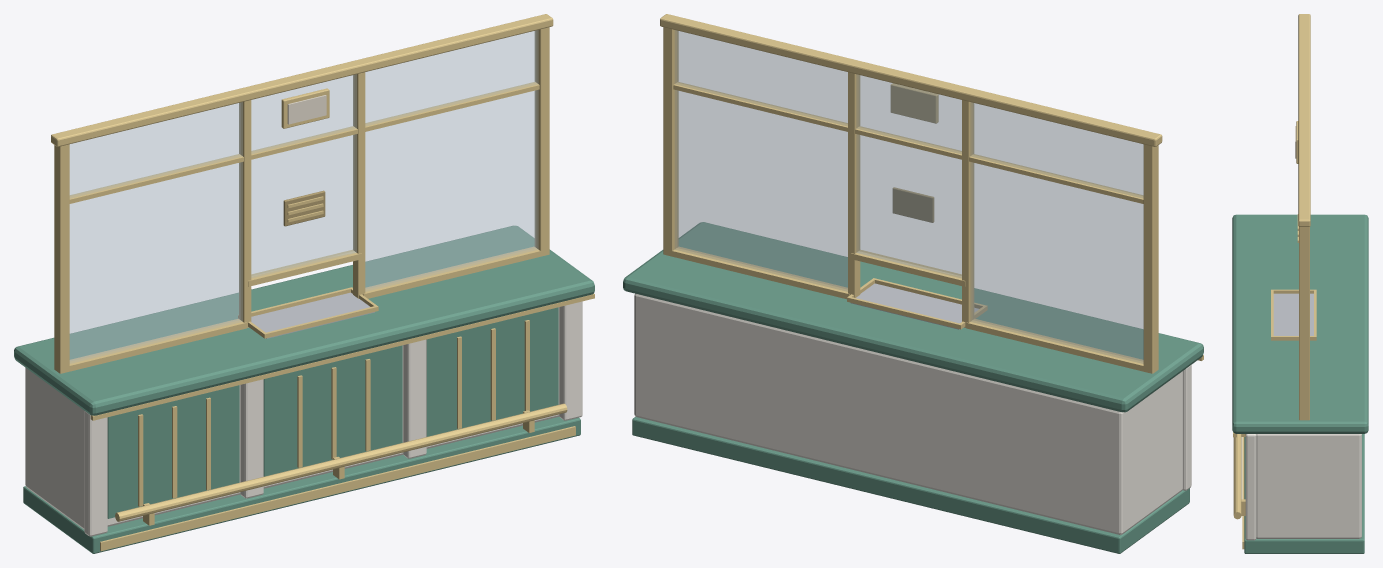
File: prop_counter.glb
3 renders of one model, left to right at view 1: azimuth 30°, elevation 25°; view 2: azimuth 150°, elevation 25°; view 3: azimuth 270°, elevation 25°, orthographic. The views are drawn at different scales.
Parts seen in each view (by area): view 1: Counter, Glass; view 2: Counter, Glass; view 3: Counter.
Boxes of the visible parts, x1=… form: Counter: x1=14, y1=14, x2=594, y2=553; Glass: x1=69, y1=30, x2=538, y2=363; Counter: x1=623, y1=14, x2=1203, y2=553; Glass: x1=675, y1=30, x2=1143, y2=363; Counter: x1=1232, y1=14, x2=1368, y2=553.
Size of the model in its own units: 3.72 by 2.77 by 1.02.
